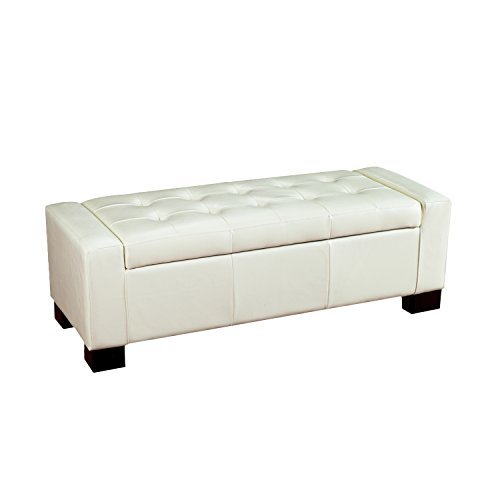chairs: (42, 166, 453, 375)
